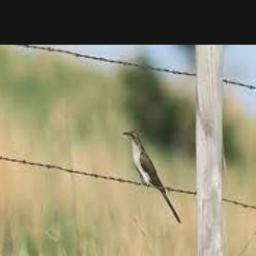Cuckoo: (121, 129, 180, 224)
